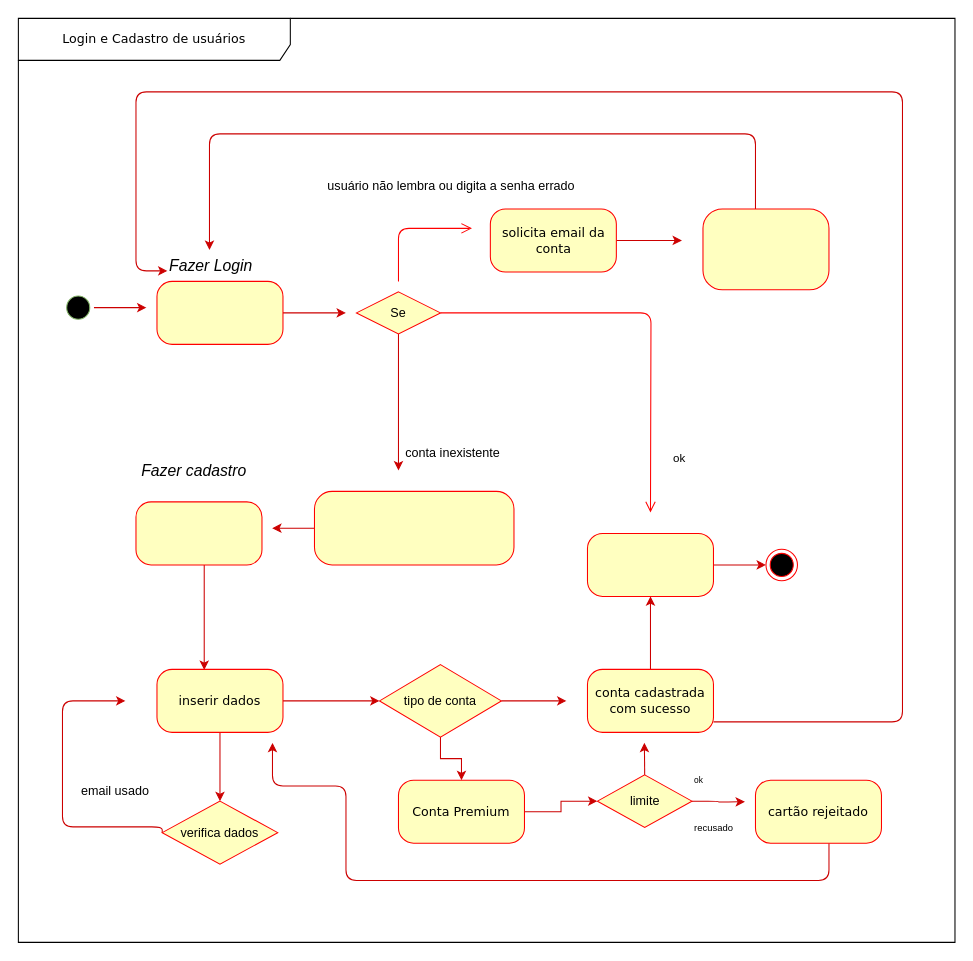
Image size: 973x961. Some labels were removed from this diagram. The box of each missing label's shape, as (x1, y1, x2, y2) in pixels:
Exibe a página principal do sistema.: (586, 532, 713, 596)
Exibe mensagem ao usuário informando que uma conta deve ser cadastrada: (313, 490, 514, 565)
Sistema envia e-mail para cliente com link para redefinição de senha .: (702, 208, 829, 290)
Tela cadastro: (135, 501, 262, 565)
Tela login: (156, 280, 283, 344)
